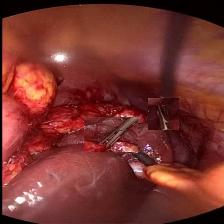Grasper: (83, 117, 137, 152), (147, 98, 178, 130)
